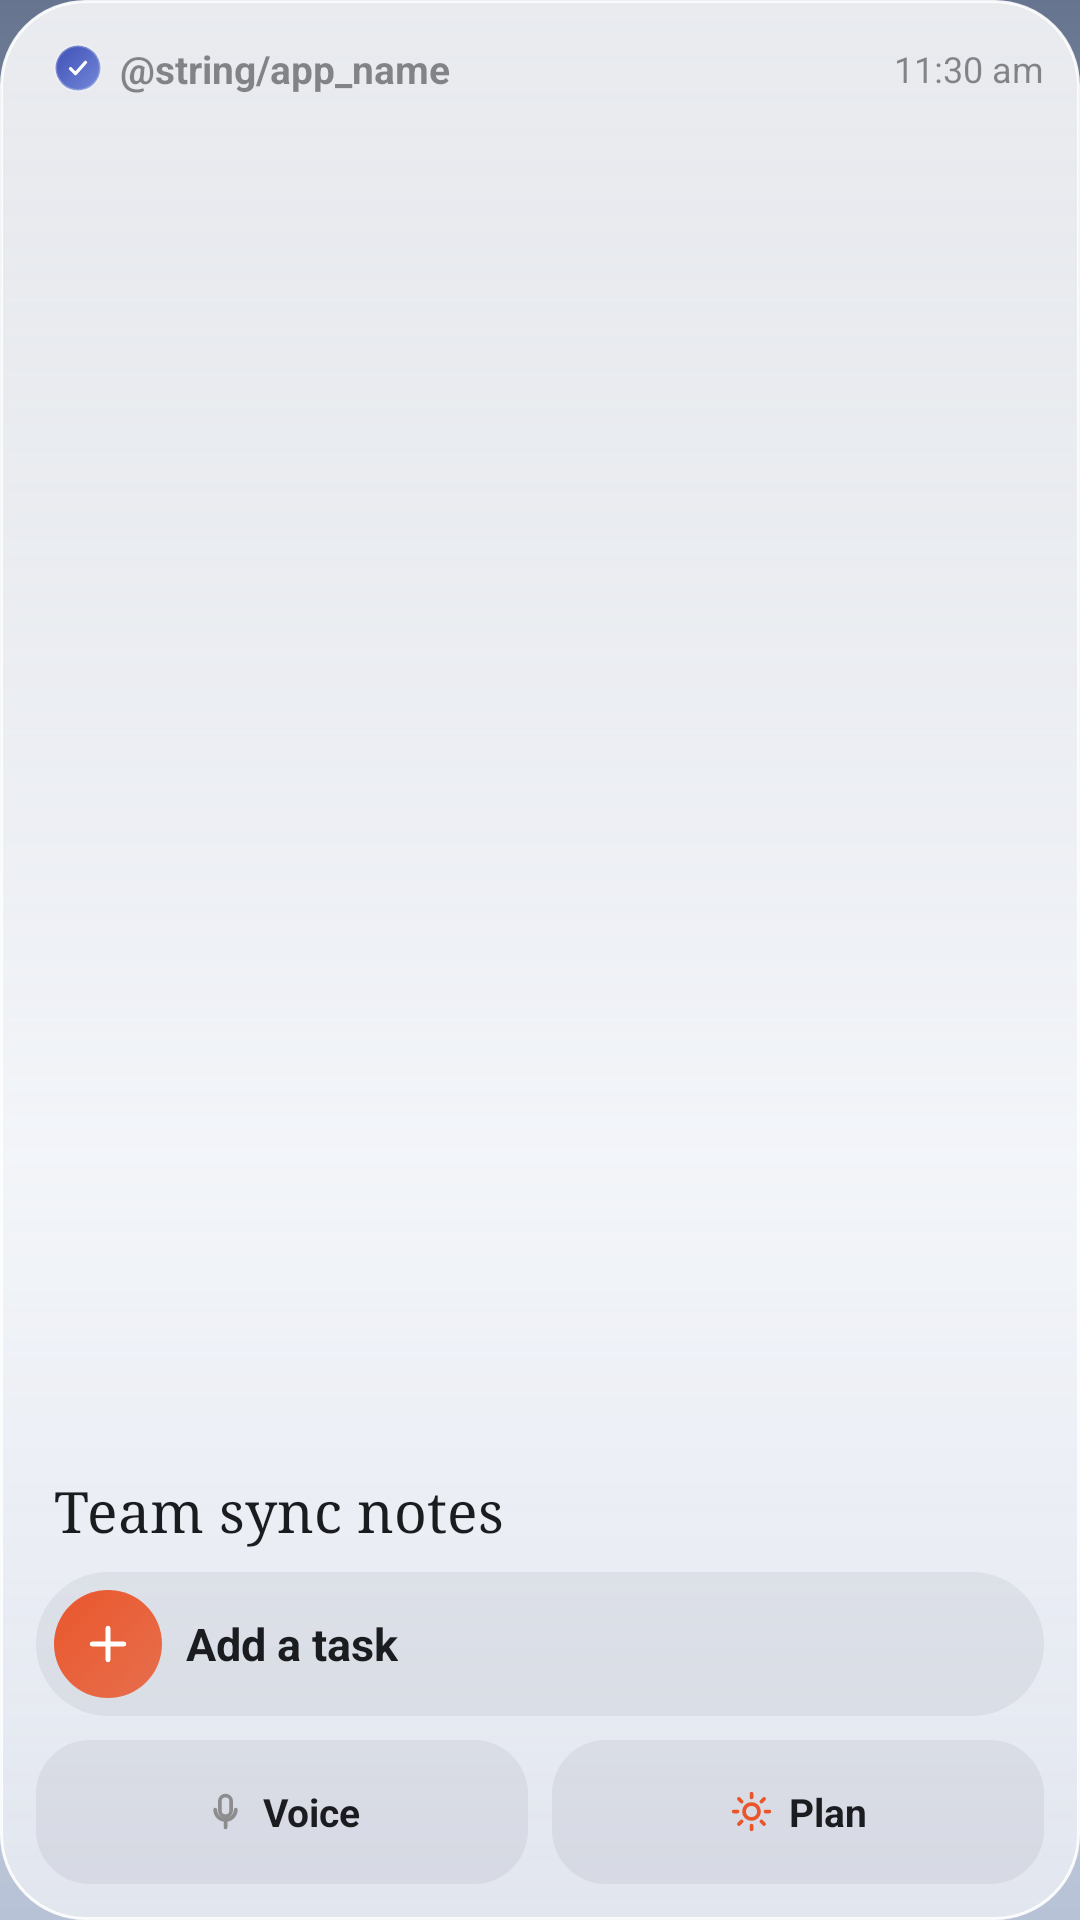

Point at icon controls on the screen. Image size 1080x1920, points as point (x, y).
widget check: point (78, 68)
widget mic: point (225, 1811)
widget plus: point (108, 1644)
widget sun: point (751, 1811)
